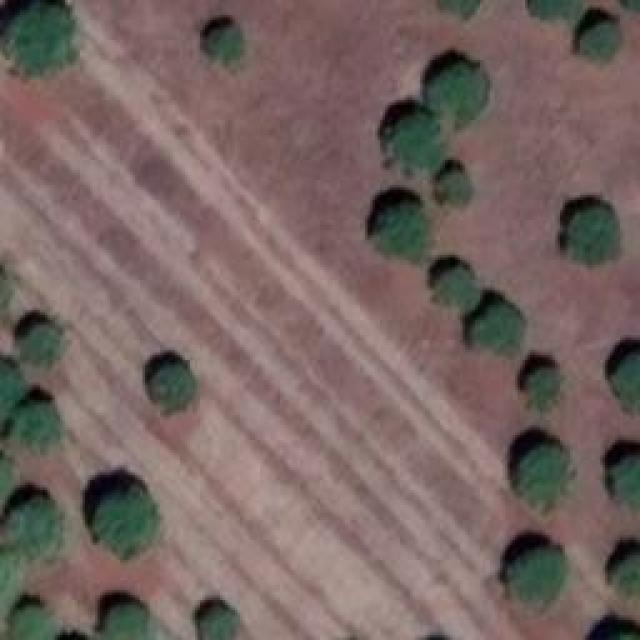Tree: (95, 490, 155, 555), (10, 8, 70, 68), (5, 500, 63, 560), (430, 65, 483, 123), (378, 205, 433, 260), (390, 118, 445, 171), (520, 447, 570, 505), (568, 210, 621, 258), (510, 548, 558, 601), (473, 305, 523, 353), (15, 403, 60, 448), (152, 365, 190, 408), (20, 325, 63, 363), (580, 23, 623, 58), (105, 605, 148, 640), (440, 270, 478, 308), (12, 607, 52, 640), (615, 355, 640, 405), (528, 370, 563, 405), (200, 607, 237, 640), (0, 360, 22, 415), (615, 458, 640, 503), (208, 28, 238, 61), (440, 170, 470, 203), (532, 0, 580, 18), (617, 557, 640, 592)
